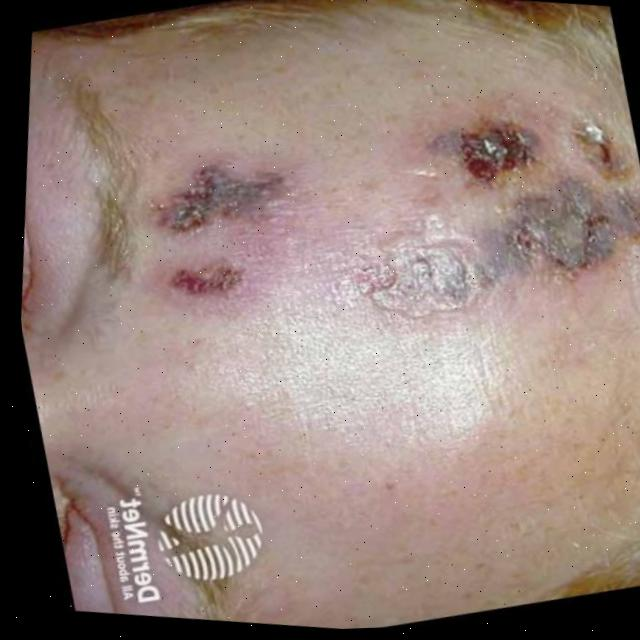Shingles: (389, 115, 640, 327), (145, 153, 297, 299)
